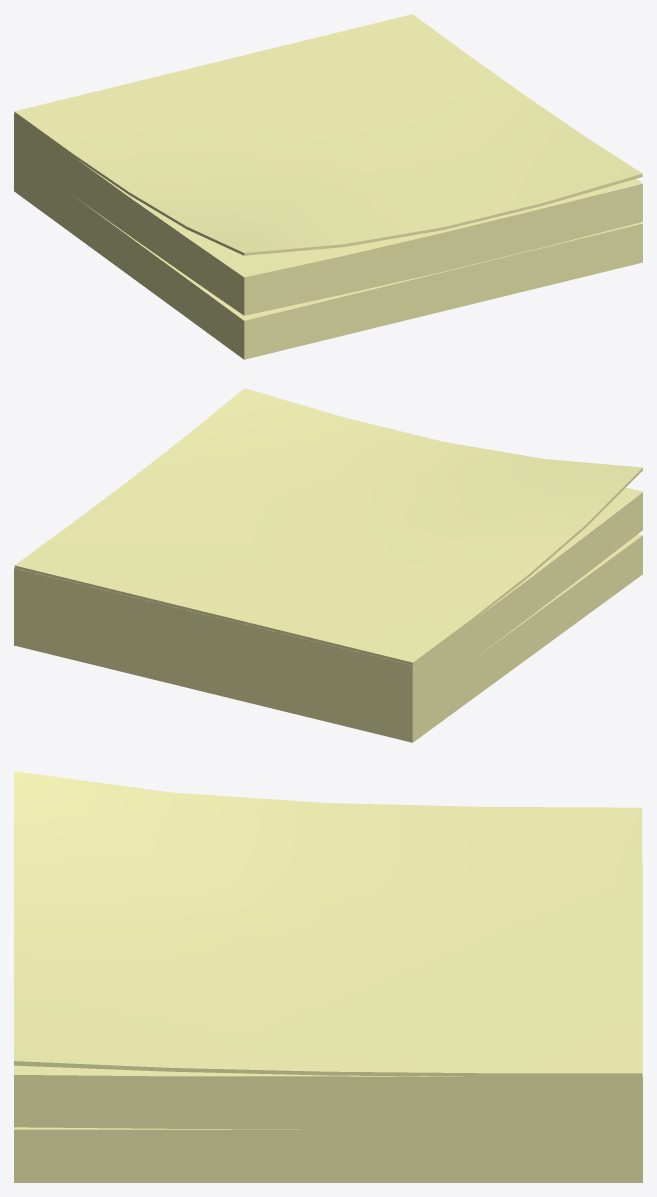
File: Pack De Postips.glb
3 renders of one model, top to bottom at view 1: azimuth 30°, elevation 25°; view 2: azimuth 150°, elevation 25°; view 3: azimuth 270°, elevation 25°, orthographic. The views are drawn at different scales.
Visible parts, largest first — view 1: 4d7ce565-86f3-4e94-b649-fd81785fb183, 36f5e4c3-55dd-4f4e-a75f-6667ad91d641; view 2: 4d7ce565-86f3-4e94-b649-fd81785fb183, 36f5e4c3-55dd-4f4e-a75f-6667ad91d641; view 3: 4d7ce565-86f3-4e94-b649-fd81785fb183, 36f5e4c3-55dd-4f4e-a75f-6667ad91d641.
Boxes of the visible parts, box(x1,y1,x2,y2) form: 4d7ce565-86f3-4e94-b649-fd81785fb183: box(14, 14, 642, 276); 36f5e4c3-55dd-4f4e-a75f-6667ad91d641: box(14, 114, 642, 359); 4d7ce565-86f3-4e94-b649-fd81785fb183: box(14, 388, 642, 665); 36f5e4c3-55dd-4f4e-a75f-6667ad91d641: box(14, 492, 642, 742); 4d7ce565-86f3-4e94-b649-fd81785fb183: box(14, 771, 642, 1076); 36f5e4c3-55dd-4f4e-a75f-6667ad91d641: box(14, 863, 642, 1182).
Bounding box in the file's own units: 0.075 × 0.0192 × 0.075.
